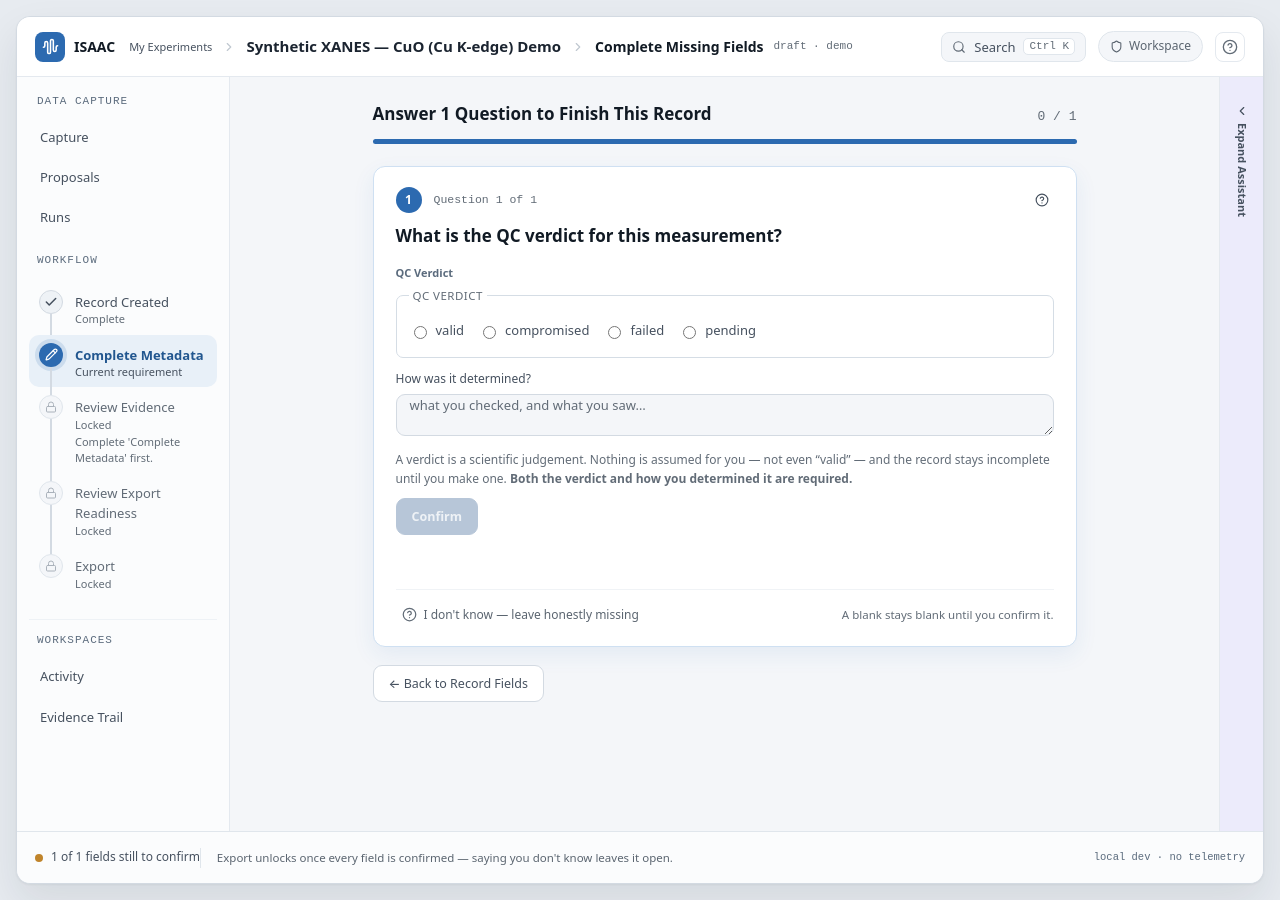
Test: the completion screen over a read-but-unanswerable entry › still shows the panel when every entry on the page really is answerable
Expected: the heading "What is the QC verdict for this measurement?" is shown, [396,224,782,247]
Click the button "I don't know — leave honestly missing" at [520, 614], box [396,602,645,626]
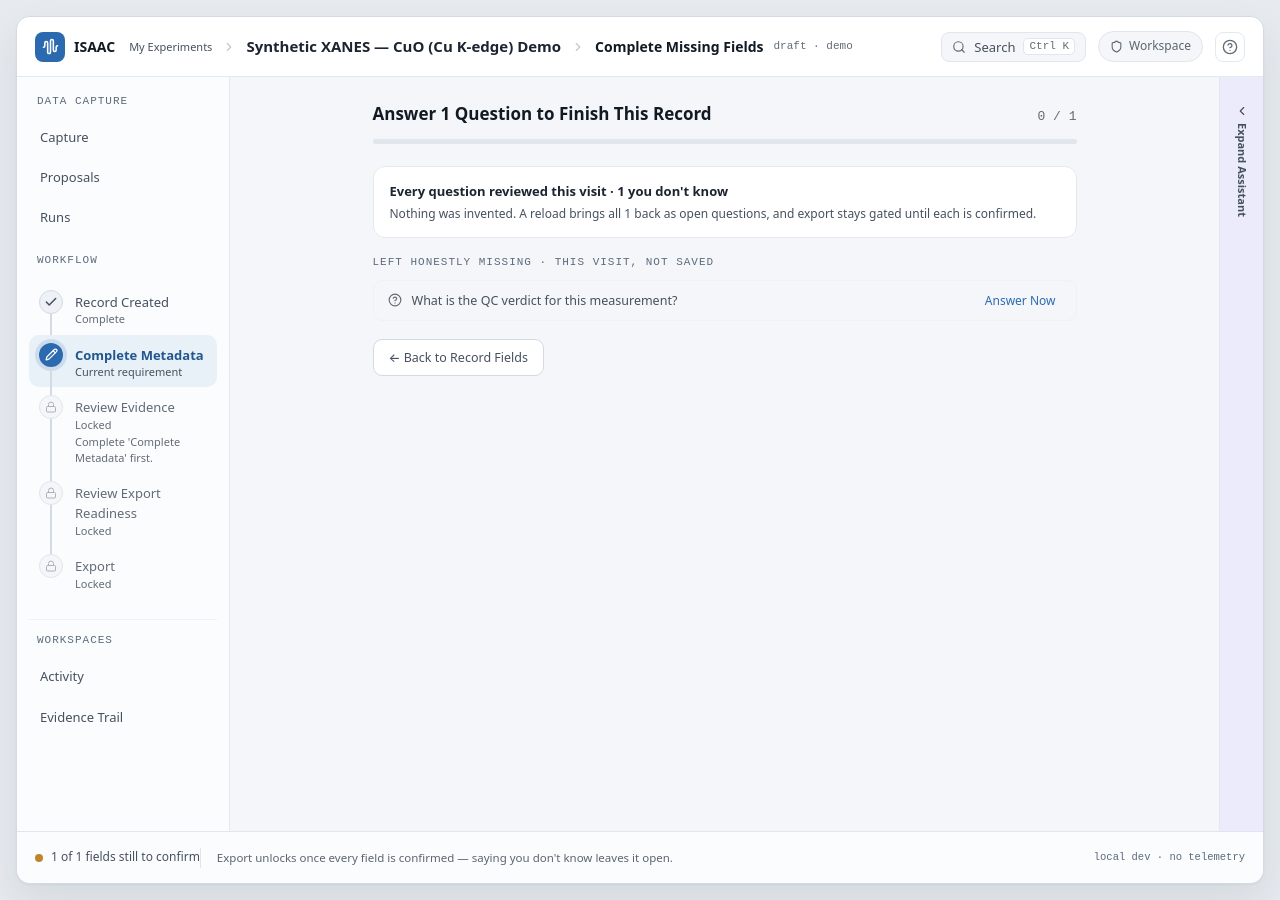
Expected: the text "Every question reviewed this visit · 1 you don't know" is shown, [390,182,728,200]
